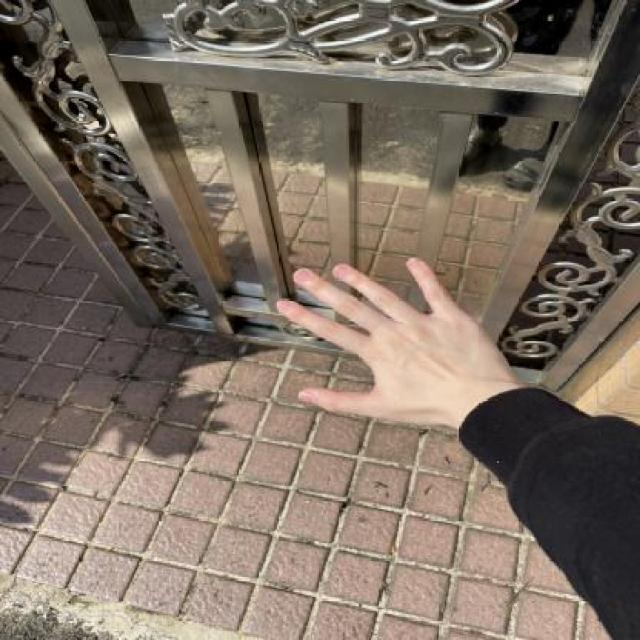no_glove: (269, 238, 513, 432)
